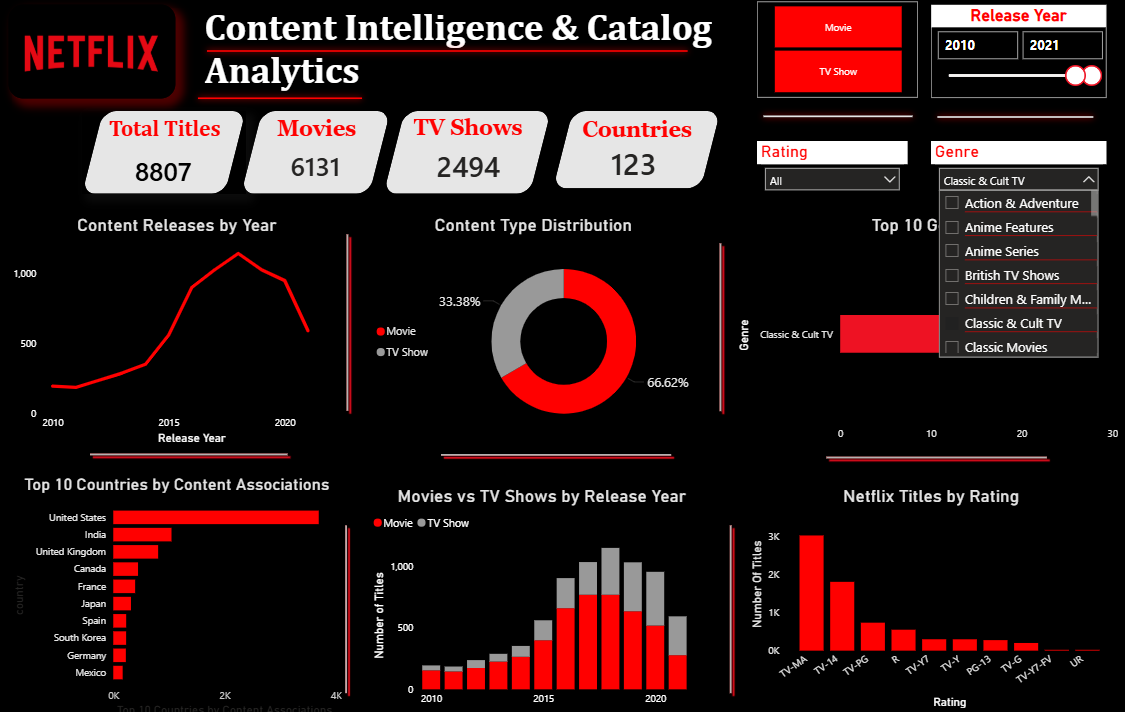

Layout of this report page (visuals, bound fields, positions):
{"tool":"powerbi","page":{"name":"Page 2","canvas":[1400,900],"ordinal":1},"visuals":[{"type":"donutChart","title":"Content Type Distribution","fields":{"Category":[" Netflix.type"],"Y":["CountNonNull( Netflix.show_id)"]},"box":[464,272,400,288],"z":0},{"type":"lineChart","title":"Content Releases by Year ","fields":{"Category":[" Netflix.release_year"],"Y":["CountNonNull( Netflix.show_id)"]},"box":[16,272,416,288],"z":1000},{"type":"clusteredBarChart","title":"Top 10 Countries by Content Associations","fields":{"Y":["CountNonNull(Country.country)"],"Category":["Country.country"]},"box":[16,592,416,304],"z":2000},{"type":"clusteredColumnChart","title":"Netflix Titles by Rating","fields":{"Category":[" Netflix.rating"],"Y":["CountNonNull( Netflix.show_id)"]},"box":[928.1,607,456.1,278.9],"z":3000},{"type":"columnChart","title":"Movies vs TV Shows by Release Year","fields":{"Category":[" Netflix.release_year"],"Y":["CountNonNull( Netflix.show_id)"],"Series":[" Netflix.type"]},"box":[461.4,607,428.1,280.7],"z":4000},{"type":"clusteredBarChart","title":"Top 10 Genres","fields":{"Category":["Genre.Genre"],"Y":["CountNonNull(Genre.Genre)"]},"box":[912,272,480,288],"z":5000},{"type":"image","box":[17.1,12.9,205.7,115.7],"z":6000},{"type":"textbox","title":"Content Intelligence & Catalog Analytics","box":[253.7,13,661.1,113],"z":7000},{"type":"shape","box":[106.7,144.4,202.2,102.2],"z":8000},{"type":"cardVisual","fields":{"Data":[" Netflix.Total Titles"]},"box":[153.3,195.6,108.9,40],"z":9000},{"type":"shape","box":[304.4,144.4,184.4,102.2],"z":10000},{"type":"shape","box":[480,144.4,206.7,102.2],"z":11000},{"type":"shape","box":[688.9,144.4,206.7,95.6],"z":12000},{"type":"cardVisual","fields":{"Data":[" Netflix.Movies"]},"box":[331.1,186.7,128.9,48.9],"z":13000},{"type":"cardVisual","fields":{"Data":[" Netflix.TV Shows"]},"box":[526.7,188.9,117.8,44.4],"z":14000},{"type":"cardVisual","fields":{"Data":[" Netflix.Total Country"]},"box":[730,185,118.3,45],"z":15000},{"type":"slicer","title":"Release Year","fields":{"Values":[" Netflix.release_year"]},"box":[1155.4,13.8,216.9,115.4],"z":16000},{"type":"slicer","title":"Rating","fields":{"Values":[" Netflix.rating"]},"box":[940,181.5,186.2,73.8],"z":17000},{"type":"slicer","title":"Genre","fields":{"Values":["Genre.Genre"]},"box":[1155.4,181.5,216.9,64.6],"z":18000},{"type":"shape","box":[253.7,55.6,609.3,29.6],"z":19000},{"type":"shape","box":[940,135,200,31.7],"z":20000},{"type":"shape","box":[1155,135,208.3,33.3],"z":21000},{"type":"shape","box":[242.6,113,218.5,31.5],"z":22000},{"type":"shape","box":[112,544,256,48],"z":23000},{"type":"shape","box":[415.8,291.2,36.8,229.8],"z":24000},{"type":"shape","box":[884.2,301.8,24.6,219.3],"z":25000},{"type":"shape","box":[421.1,650.9,26.3,219.3],"z":26000},{"type":"shape","box":[889.5,650.9,38.6,219.3],"z":27000},{"type":"shape","box":[543.9,542.1,296.5,52.6],"z":28000},{"type":"shape","box":[1021.1,556.1,284.2,33.3],"z":29000},{"type":"slicer","fields":{"Values":[" Netflix.type"]},"box":[940,10,198.3,118.3],"z":30000}]}

Visuals, with their boxes in screenshot pixels (x1, y1, x2, y2), scaled from the page's 1400x900 canvas onto the 1125x712 screenshot:
"Content Type Distribution" donutChart: left=373, top=215, right=694, bottom=443
"Content Releases by Year " lineChart: left=13, top=215, right=347, bottom=443
"Top 10 Countries by Content Associations" clusteredBarChart: left=13, top=468, right=347, bottom=709
"Netflix Titles by Rating" clusteredColumnChart: left=746, top=480, right=1112, bottom=701
"Movies vs TV Shows by Release Year" columnChart: left=371, top=480, right=715, bottom=702
"Top 10 Genres" clusteredBarChart: left=733, top=215, right=1119, bottom=443
image: left=14, top=10, right=179, bottom=102
"Content Intelligence & Catalog Analytics" textbox: left=204, top=10, right=735, bottom=100
shape: left=86, top=114, right=248, bottom=195
cardVisual -  Netflix.Total Titles: left=123, top=155, right=211, bottom=186
shape: left=245, top=114, right=393, bottom=195
shape: left=386, top=114, right=552, bottom=195
shape: left=554, top=114, right=720, bottom=190
cardVisual -  Netflix.Movies: left=266, top=148, right=370, bottom=186
cardVisual -  Netflix.TV Shows: left=423, top=149, right=518, bottom=185
cardVisual -  Netflix.Total Country: left=587, top=146, right=682, bottom=182
"Release Year" slicer: left=928, top=11, right=1103, bottom=102
"Rating" slicer: left=755, top=144, right=905, bottom=202
"Genre" slicer: left=928, top=144, right=1103, bottom=195
shape: left=204, top=44, right=693, bottom=67
shape: left=755, top=107, right=916, bottom=132
shape: left=928, top=107, right=1096, bottom=133
shape: left=195, top=89, right=371, bottom=114
shape: left=90, top=430, right=296, bottom=468
shape: left=334, top=230, right=364, bottom=412
shape: left=711, top=239, right=730, bottom=412
shape: left=338, top=515, right=360, bottom=688
shape: left=715, top=515, right=746, bottom=688
shape: left=437, top=429, right=675, bottom=470
shape: left=821, top=440, right=1049, bottom=466
slicer -  Netflix.type: left=755, top=8, right=915, bottom=101
